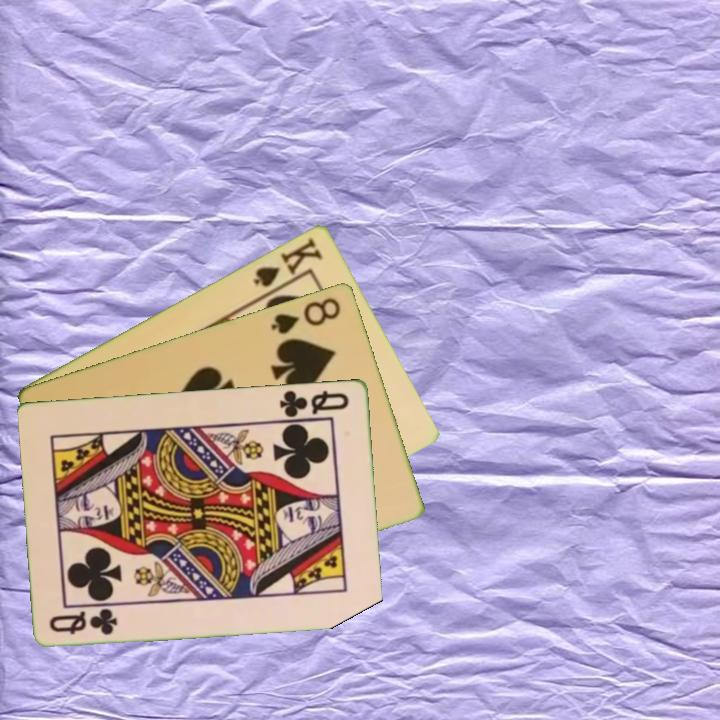8s: (267, 293, 344, 337)
Ks: (250, 233, 326, 298)
Qc: (276, 386, 353, 420), (46, 605, 121, 638)
